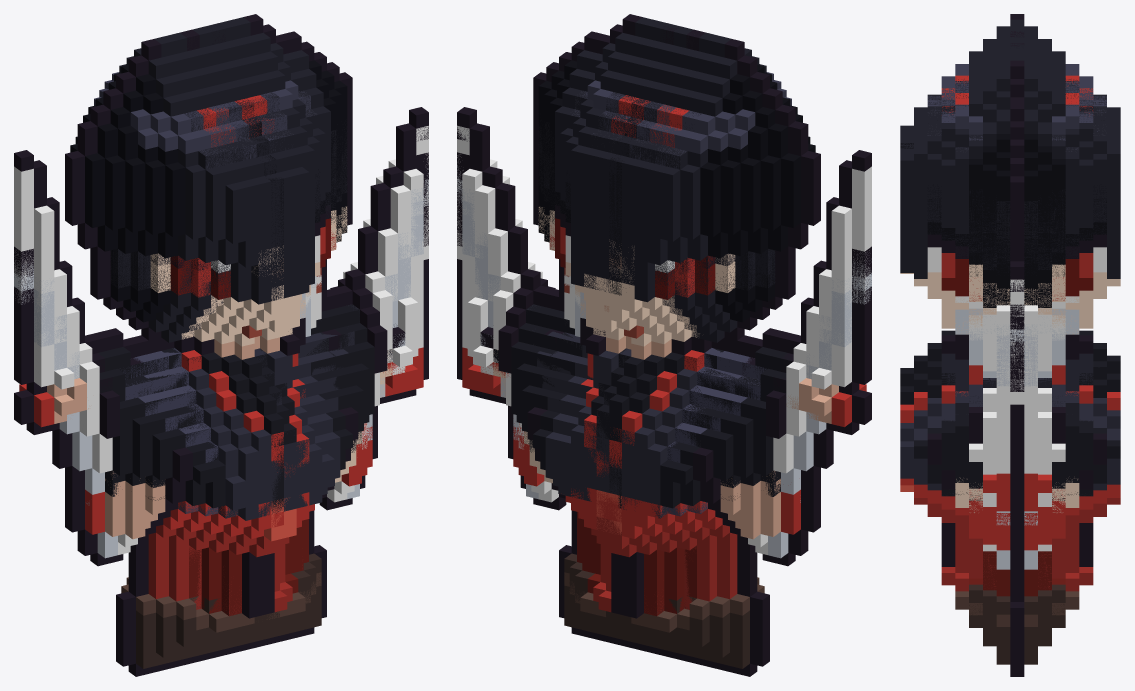
File: samurai.glb
3 views of the same model, side by side, from view 1: azimuth 30°, elevation 25°; view 2: azimuth 150°, elevation 25°; view 3: azimuth 270°, elevation 25° (orthographic). The views are drawn at different scales.
Visible parts, largest first — view 1: f0, f14, f1, f2, f15, f7, f9, f8, f13, f6, f4, f18 (+3 smaller); view 2: f0, f14, f1, f2, f7, f15, f8, f9, f13, f6, f4, f18 (+3 smaller); view 3: f0, f1, f2, f6, f15, f18, f14, f7, f9, f16, f20, f8 (+2 smaller).
Part boxes in pixels (left/top/right/bottom): f0: left=90, top=14, right=428, bottom=672; f14: left=65, top=23, right=352, bottom=660; f1: left=90, top=36, right=428, bottom=615; f2: left=116, top=152, right=428, bottom=655; f15: left=65, top=49, right=352, bottom=349; f7: left=14, top=35, right=346, bottom=544; f9: left=14, top=246, right=326, bottom=676; f8: left=14, top=140, right=347, bottom=566; f13: left=14, top=150, right=196, bottom=434; f6: left=246, top=107, right=428, bottom=506; f4: left=120, top=337, right=363, bottom=670; f18: left=161, top=259, right=326, bottom=669; f0: left=457, top=14, right=795, bottom=673; f14: left=533, top=23, right=820, bottom=660; f1: left=457, top=40, right=795, bottom=615; f2: left=457, top=152, right=769, bottom=655; f7: left=533, top=34, right=871, bottom=544; f15: left=533, top=45, right=820, bottom=342; f8: left=533, top=131, right=871, bottom=566; f9: left=559, top=246, right=871, bottom=676; f13: left=606, top=150, right=871, bottom=493; f6: left=457, top=107, right=659, bottom=506; f4: left=522, top=337, right=766, bottom=670; f18: left=559, top=259, right=723, bottom=670; f0: left=900, top=31, right=1120, bottom=578; f1: left=900, top=49, right=1120, bottom=581; f2: left=927, top=304, right=1106, bottom=676; f6: left=914, top=261, right=1120, bottom=523; f15: left=900, top=32, right=1120, bottom=346; f18: left=914, top=279, right=1120, bottom=565; f14: left=900, top=14, right=1120, bottom=333; f7: left=900, top=90, right=1120, bottom=441; f9: left=969, top=551, right=1065, bottom=657; f16: left=941, top=531, right=1093, bottom=609; f20: left=955, top=279, right=1079, bottom=491; f8: left=900, top=185, right=1120, bottom=496.
Size of the model in its own units: 2 by 2.94 by 1.
